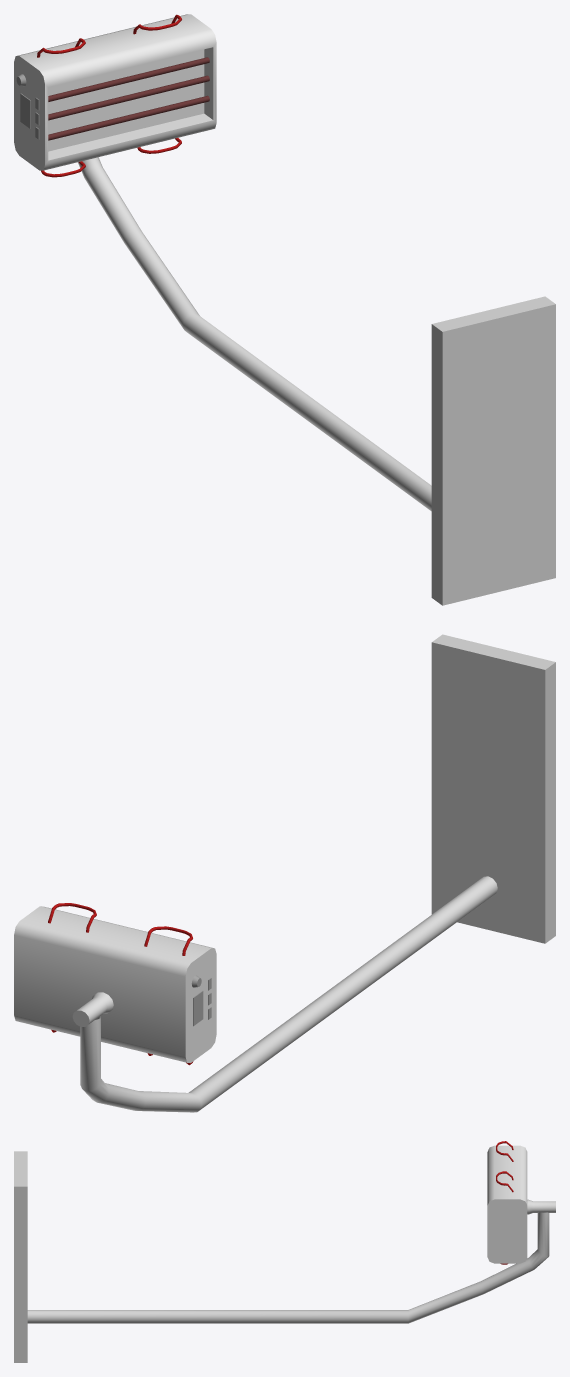
The picture shows the model from 3 angles, top to bottom: view 1: azimuth 30°, elevation 25°; view 2: azimuth 150°, elevation 25°; view 3: azimuth 270°, elevation 25°; orthographic projection. The views are drawn at different scales.
Visible parts, largest first — view 1: Circle; view 2: Circle; view 3: Circle.
Boxes of the visible parts, x1=… form: Circle: x1=14, y1=14, x2=555, y2=605; Circle: x1=14, y1=634, x2=555, y2=1112; Circle: x1=14, y1=1141, x2=555, y2=1362.
Size of the model in its own units: 46.16 by 70.53 by 191.
